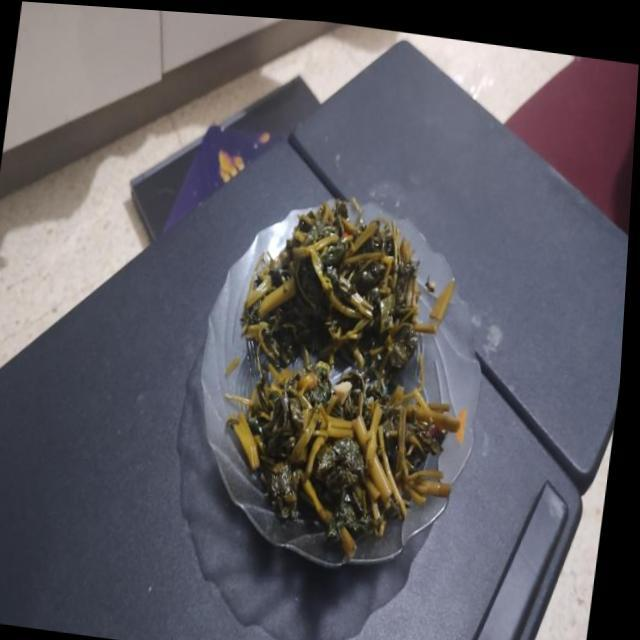tumis_kangkung: (224, 362, 466, 561), (240, 203, 454, 378)
